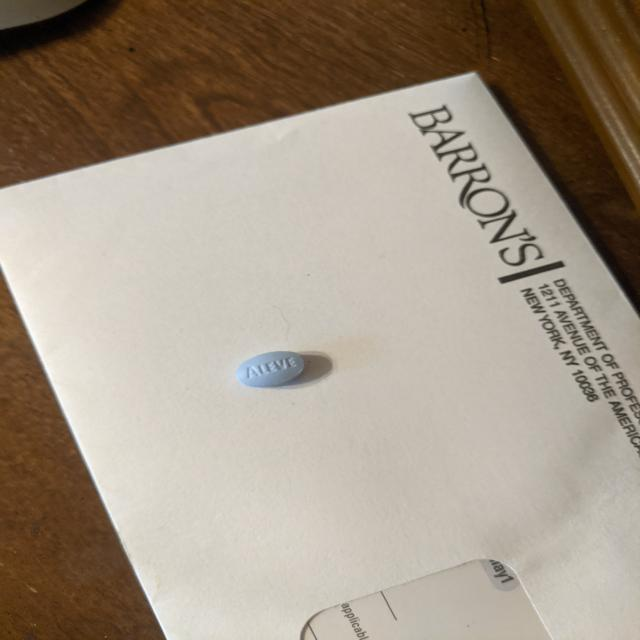non-organic waste: (235, 350, 307, 388)
